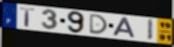3: (40, 9, 58, 31)
9: (66, 11, 87, 34)
A: (112, 17, 137, 40)
D: (89, 14, 109, 35)
I: (147, 18, 155, 42)
T: (19, 6, 37, 28)
